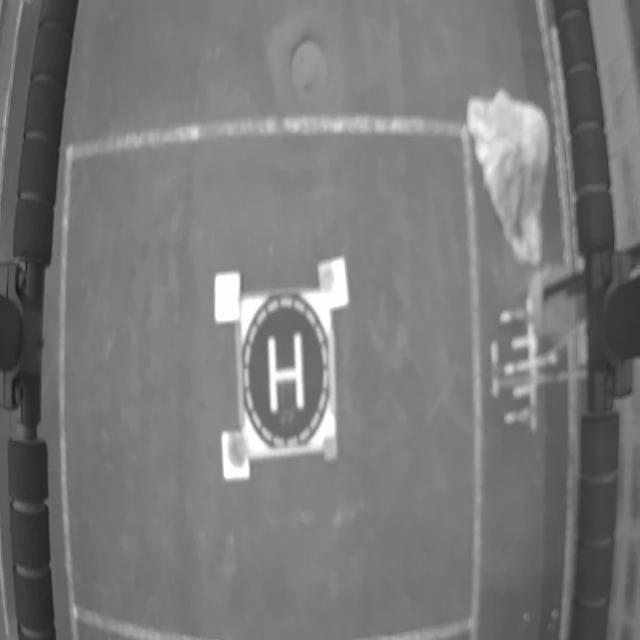Helipad: (268, 330, 302, 411)
